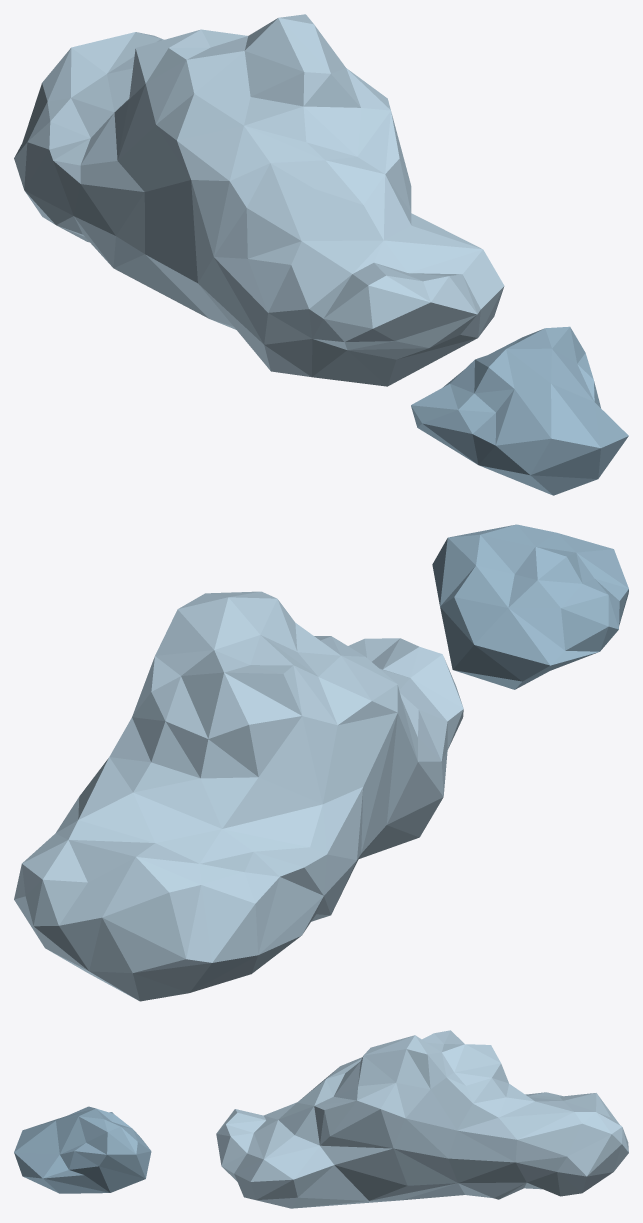
File: Cloud_01.fbx
The picture shows the model from 3 angles, top to bottom: view 1: azimuth 30°, elevation 25°; view 2: azimuth 150°, elevation 25°; view 3: azimuth 270°, elevation 25°; orthographic projection. The views are drawn at different scales.
Visible parts, largest first — view 1: Cloud_01; view 2: Cloud_01; view 3: Cloud_01.
Boxes of the visible parts, x1=… form: Cloud_01: x1=14, y1=14, x2=628, y2=495; Cloud_01: x1=14, y1=524, x2=628, y2=1001; Cloud_01: x1=14, y1=1030, x2=628, y2=1208.
Size of the model in its own units: 8.74 by 9.4 by 30.48.
